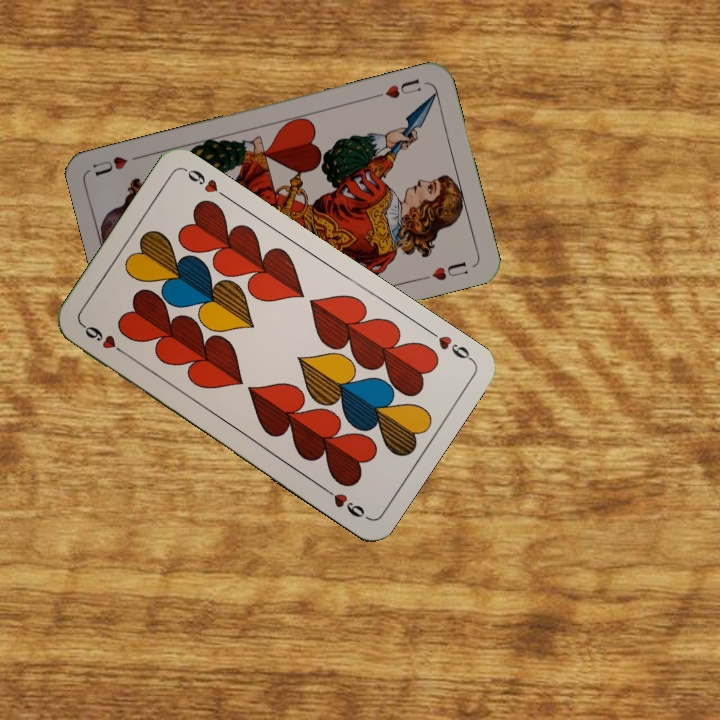H9: (78, 320, 130, 358), (423, 325, 475, 363)
HU: (370, 74, 424, 101)
